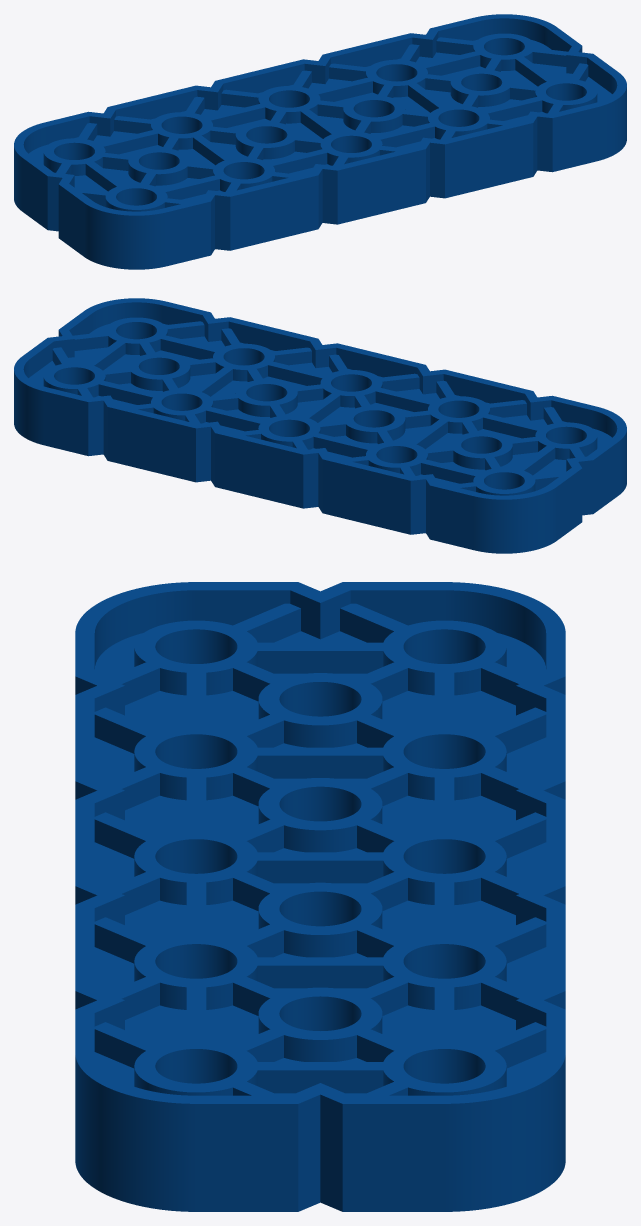
3 renders of one model, top to bottom at view 1: azimuth 30°, elevation 25°; view 2: azimuth 150°, elevation 25°; view 3: azimuth 270°, elevation 25°, orthographic. The views are drawn at different scales.
Parts seen in each view (by area): view 1: 228-2500-020 Rev1; view 2: 228-2500-020 Rev1; view 3: 228-2500-020 Rev1.
Boxes of the visible parts, <box> form: 228-2500-020 Rev1: <box>14,14,626,269</box>; 228-2500-020 Rev1: <box>14,298,626,553</box>; 228-2500-020 Rev1: <box>75,582,565,1211</box>.
Size of the model in its own units: 0.0632 by 0.0061 by 0.0251.
